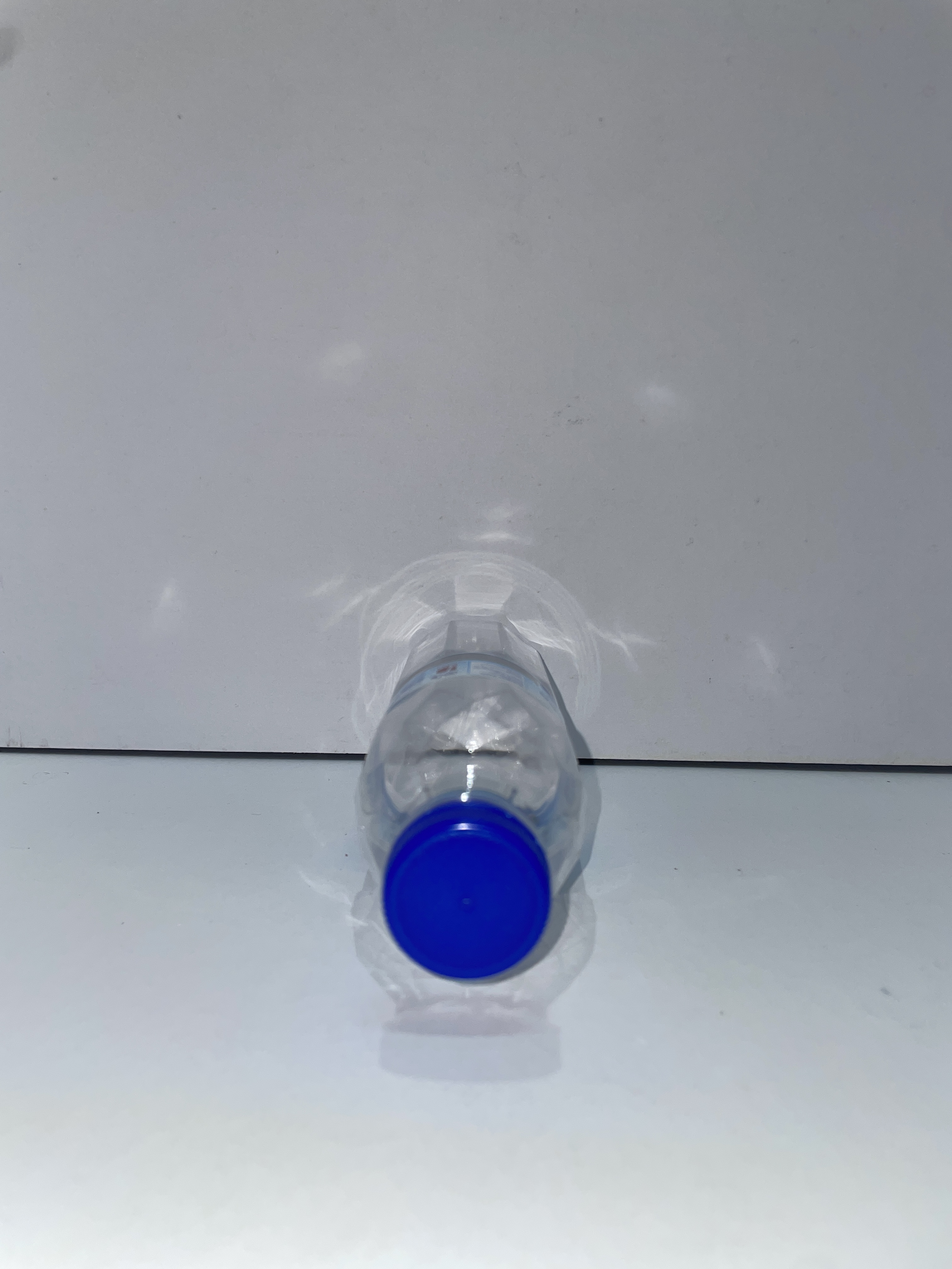Aquaspring 350ml: (358, 606, 582, 980)
